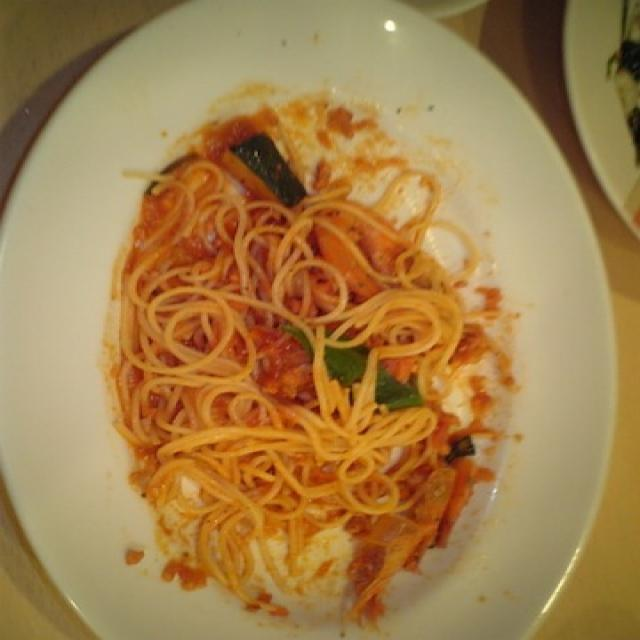Pasta: (92, 110, 512, 612)
